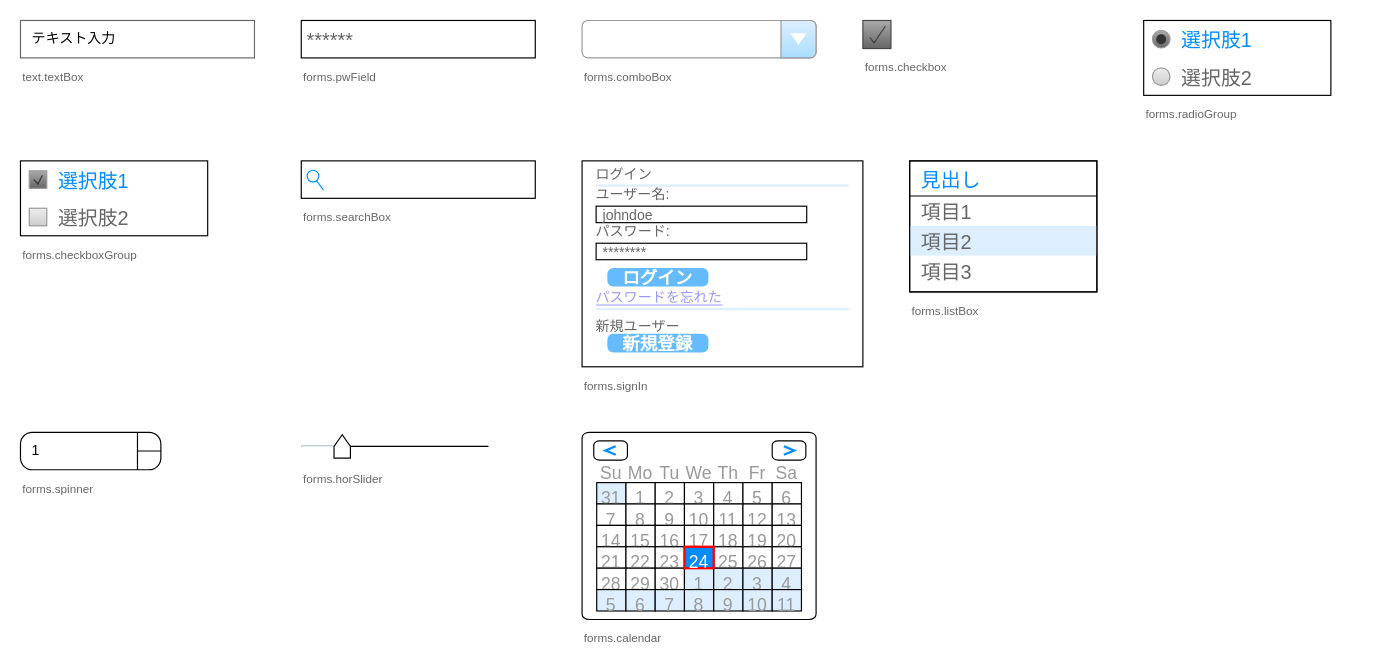
This 1398x667 diagram has some shape labels left out. The box of each missing label's shape, as (x1, y1, x2, y2) in pixels:
検索: (300, 160, 535, 198)
選択肢: (581, 19, 816, 58)
